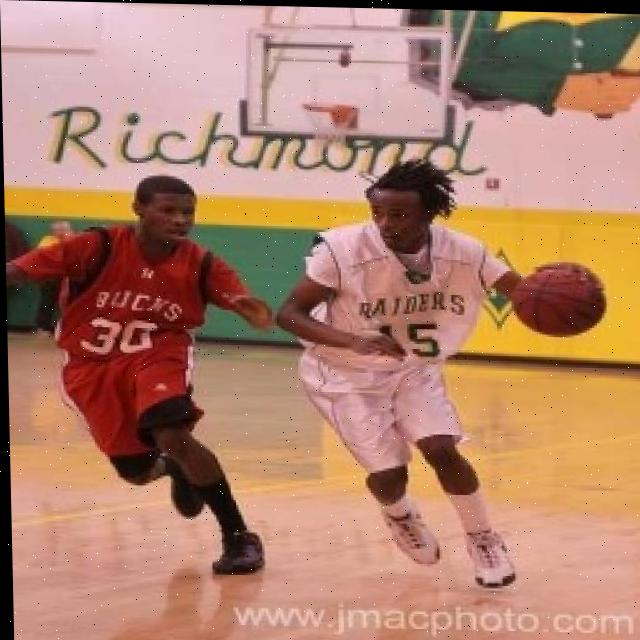basketball: (512, 262, 609, 338)
hoop: (301, 99, 363, 156)
